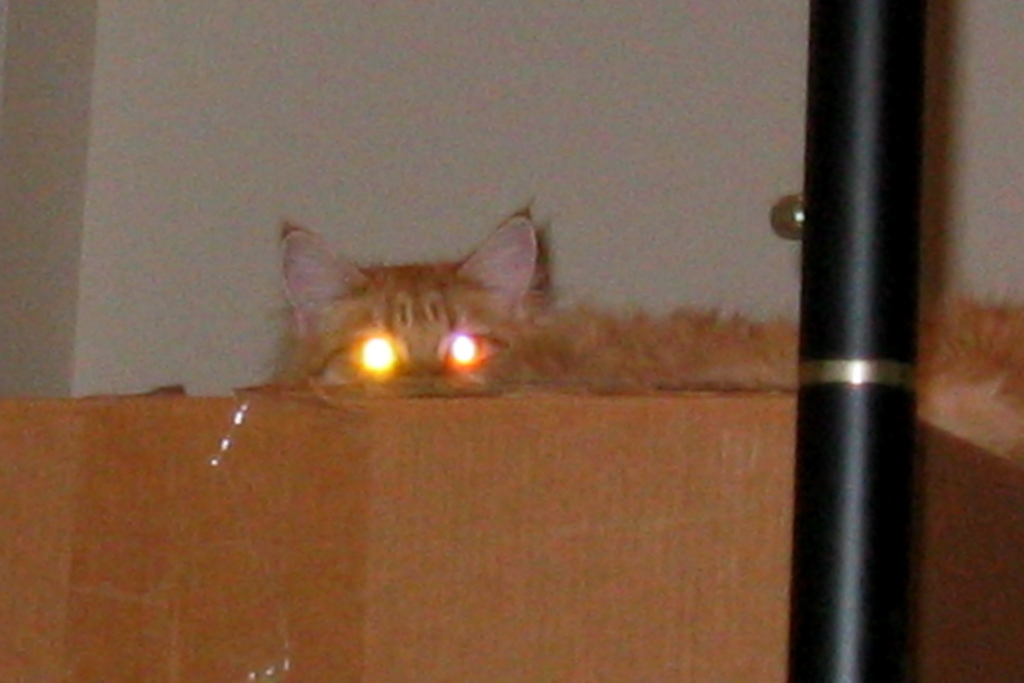Pen: (788, 0, 936, 682)
